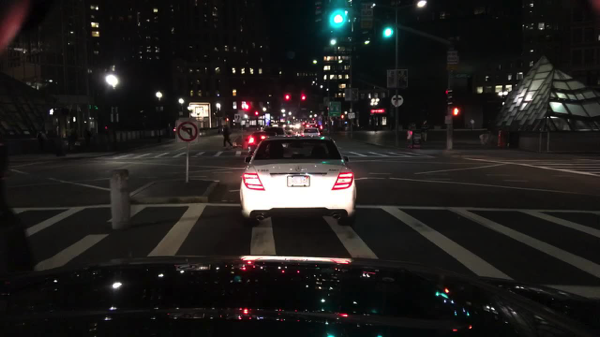car: (237, 137, 356, 227), (244, 132, 277, 150), (263, 126, 285, 137), (302, 128, 318, 138), (296, 126, 307, 137), (309, 124, 324, 131), (284, 126, 293, 135)
person: (221, 125, 235, 148), (35, 130, 49, 153), (82, 128, 93, 149), (405, 125, 415, 148), (420, 121, 429, 144), (66, 131, 75, 153)
traffic light: (332, 5, 343, 25), (385, 21, 392, 38), (446, 88, 452, 107), (49, 109, 61, 115), (455, 108, 459, 116), (284, 94, 289, 100), (301, 94, 305, 101)
traffic sign: (175, 121, 198, 144), (329, 101, 339, 117), (447, 52, 458, 65), (391, 96, 403, 107), (455, 73, 471, 78), (235, 114, 241, 123), (348, 113, 355, 119)
